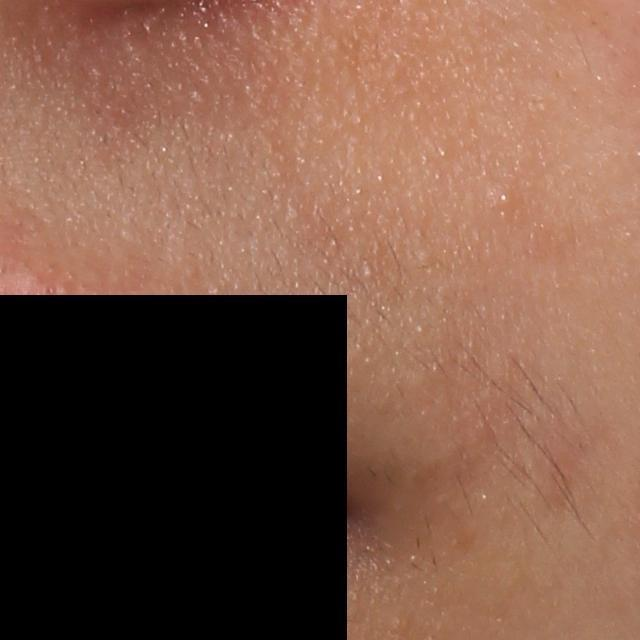comedo: (360, 264, 377, 282)
